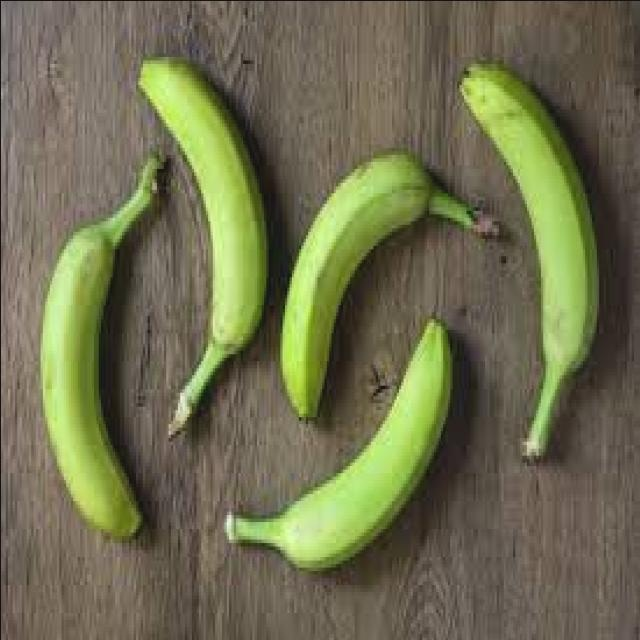agrume: (281, 146, 503, 426), (456, 58, 601, 471), (226, 319, 456, 573), (36, 155, 167, 549), (139, 49, 271, 440)
